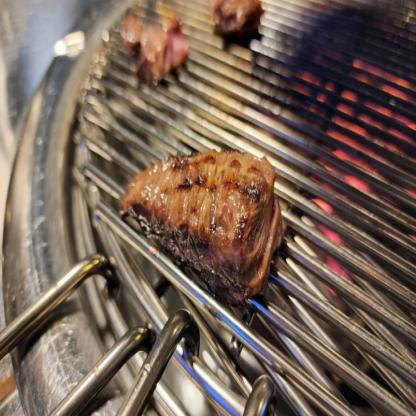Carne: (114, 139, 284, 291)
